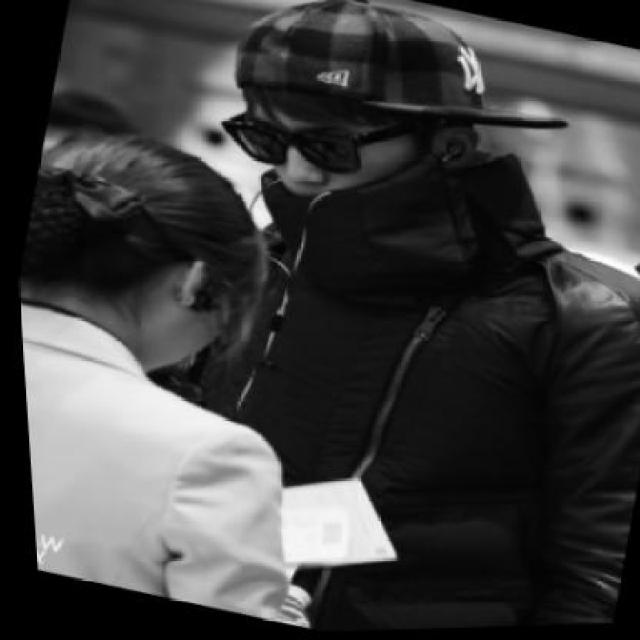hat: (218, 0, 594, 180)
